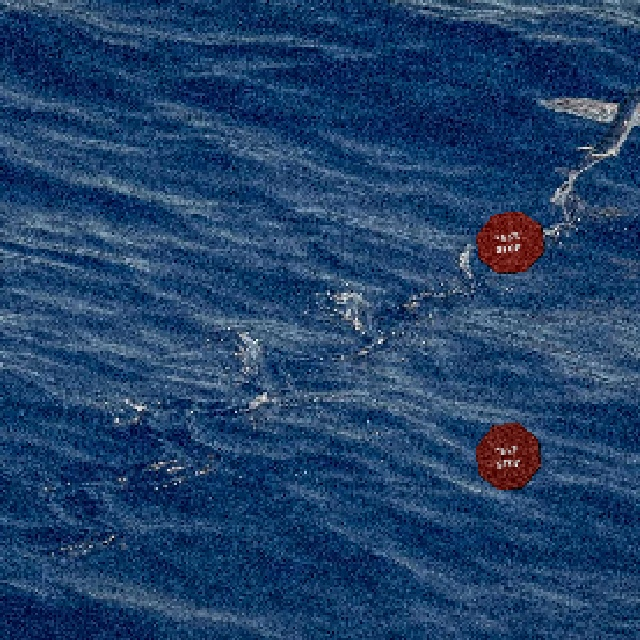FAKE_STOP: (473, 420, 539, 489), (474, 208, 543, 272)
